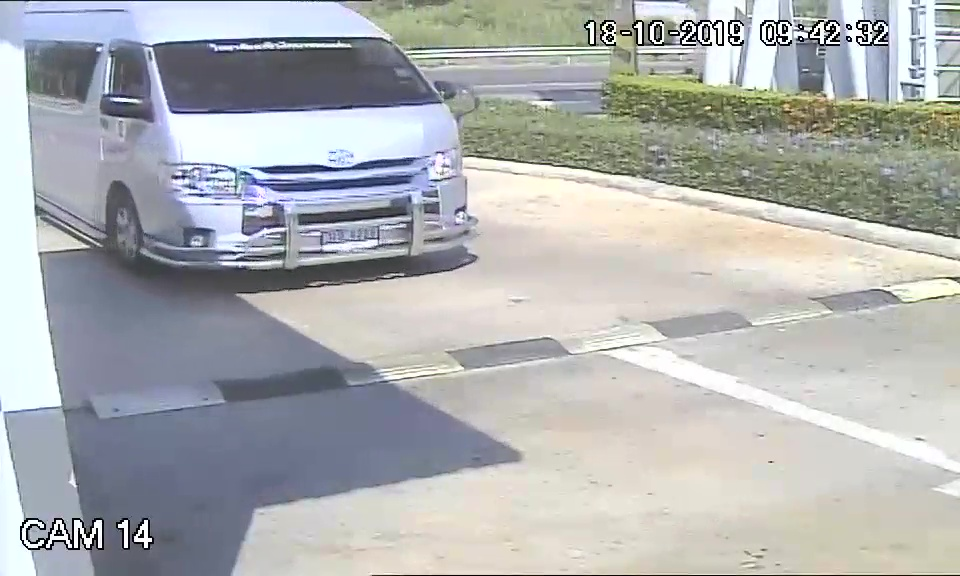van: (30, 2, 483, 275)
